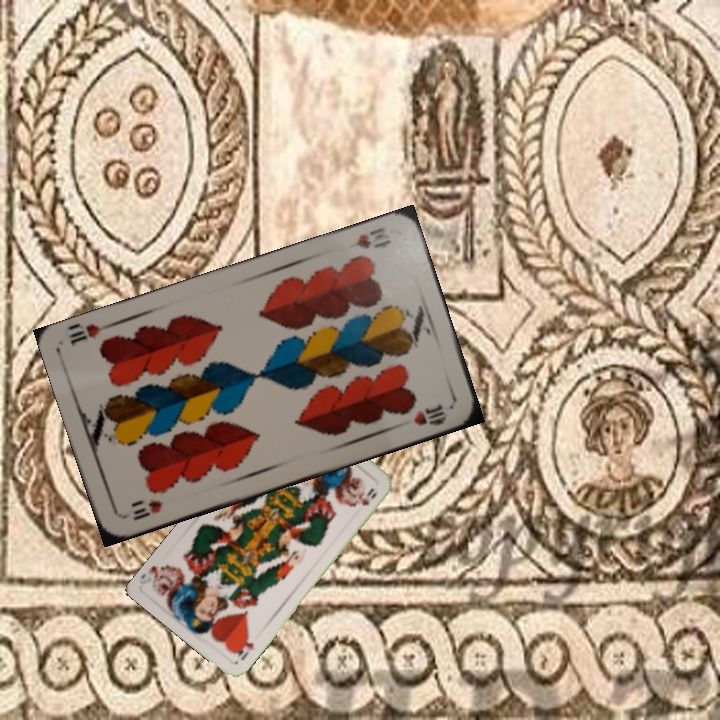H10: (343, 223, 394, 252), (120, 495, 165, 523)
HO: (231, 631, 257, 663)
